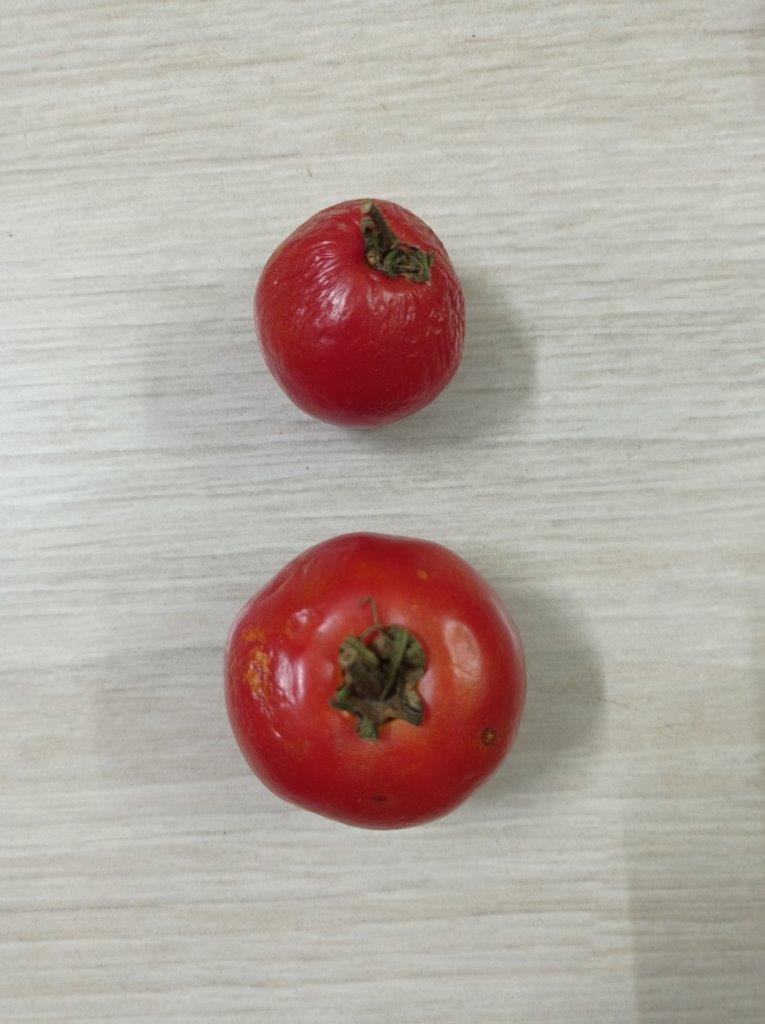bruise_discoloration: (243, 650, 280, 737), (282, 613, 316, 638), (242, 623, 265, 645)
surface_damage: (481, 727, 496, 745)
tomato: (226, 533, 524, 828), (255, 200, 464, 427)
